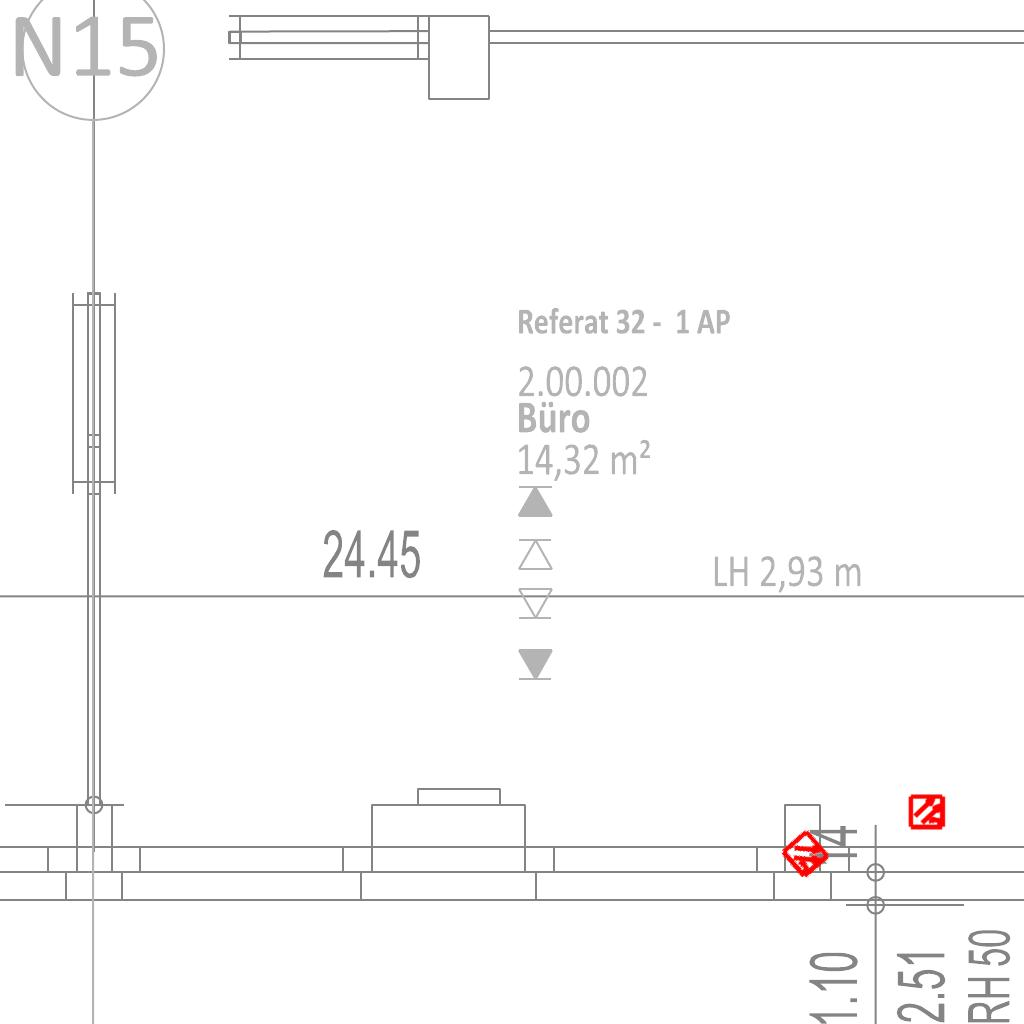OT_Multisensormelder_(Kombination_RMO_WMD): (766, 815, 846, 895), (900, 784, 956, 840)
